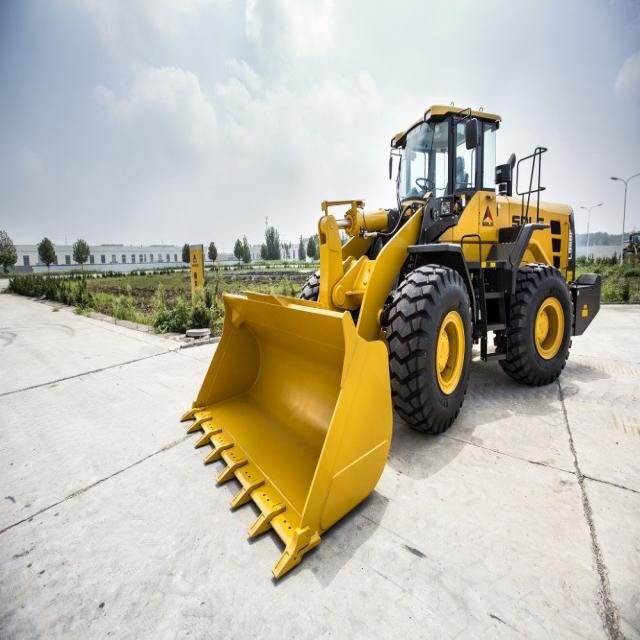buldozerpayloadergrader: (182, 88, 599, 568)
